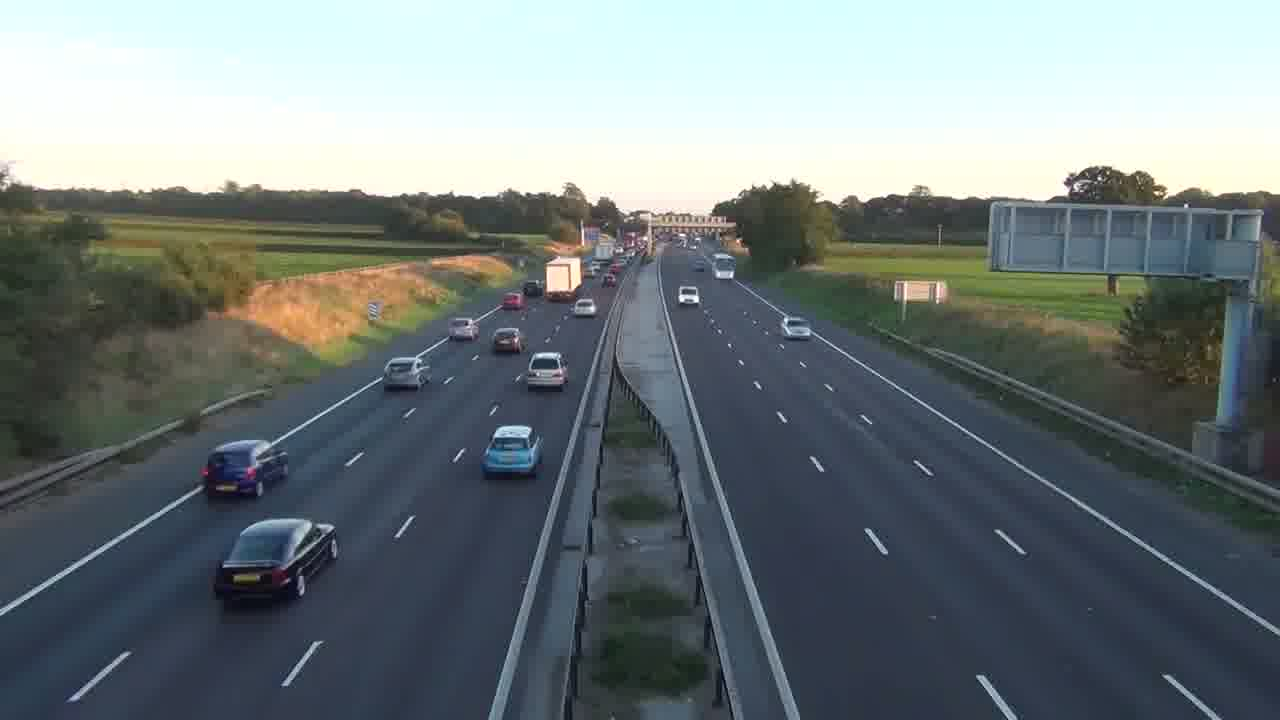car: (212, 516, 340, 604), (481, 424, 544, 480), (382, 356, 431, 391), (525, 351, 568, 390), (491, 326, 523, 354), (573, 297, 597, 318)
truck: (201, 437, 289, 499)
